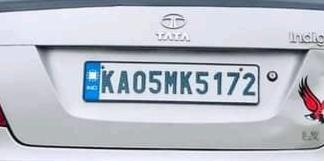0: (130, 69, 147, 94)
1: (211, 70, 224, 96)
2: (242, 70, 257, 100)
5: (194, 66, 211, 97), (147, 67, 164, 96)
7: (225, 69, 241, 97)
A: (116, 67, 131, 96)
K: (178, 68, 195, 97), (100, 67, 115, 96)
m: (163, 66, 179, 96)
